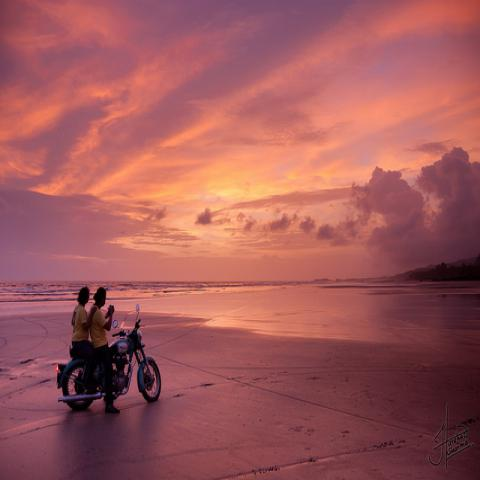motorcycle: (56, 304, 161, 412)
